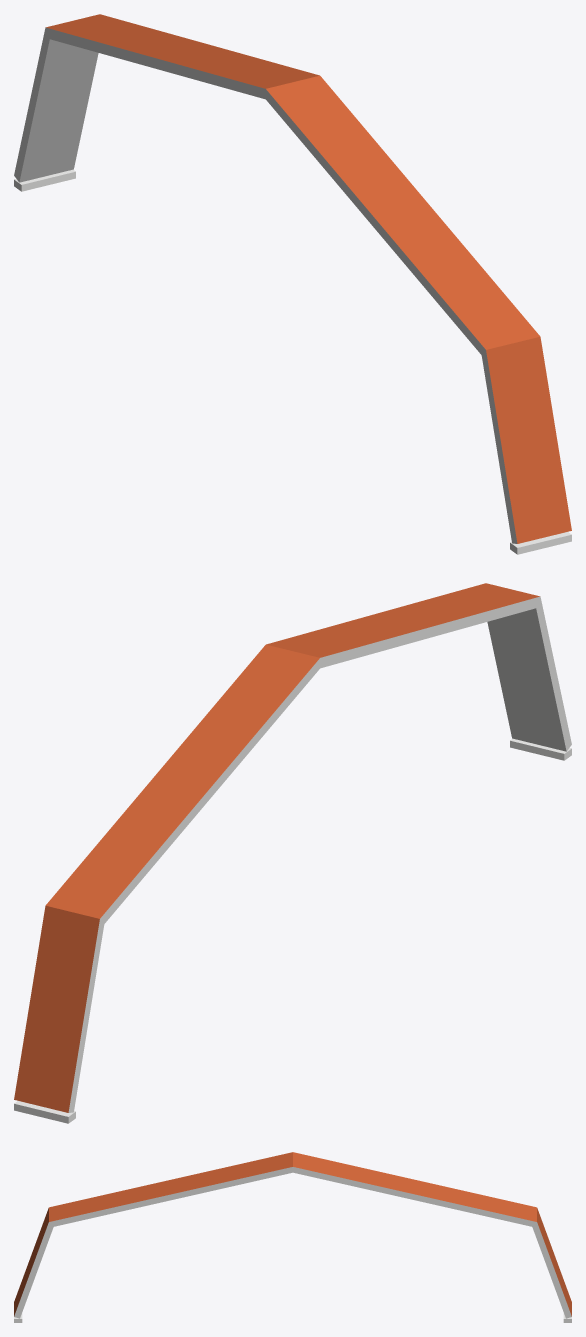
The model's file is telhado_mansarda_v8_0_5m.glb.
3 renders of one model, top to bottom at view 1: azimuth 30°, elevation 25°; view 2: azimuth 150°, elevation 25°; view 3: azimuth 270°, elevation 25°, orthographic. The views are drawn at different scales.
Parts seen in each view (by area): view 1: telhado_mansarda_v8_0_5m; view 2: telhado_mansarda_v8_0_5m; view 3: telhado_mansarda_v8_0_5m.
Boxes of the visible parts, x1,y1,x2,y2 form: telhado_mansarda_v8_0_5m: (14,14,571,554); telhado_mansarda_v8_0_5m: (14,583,571,1123); telhado_mansarda_v8_0_5m: (14,1152,571,1322).
Bounding box in the file's own units: 0.5 × 2.47 × 8.
